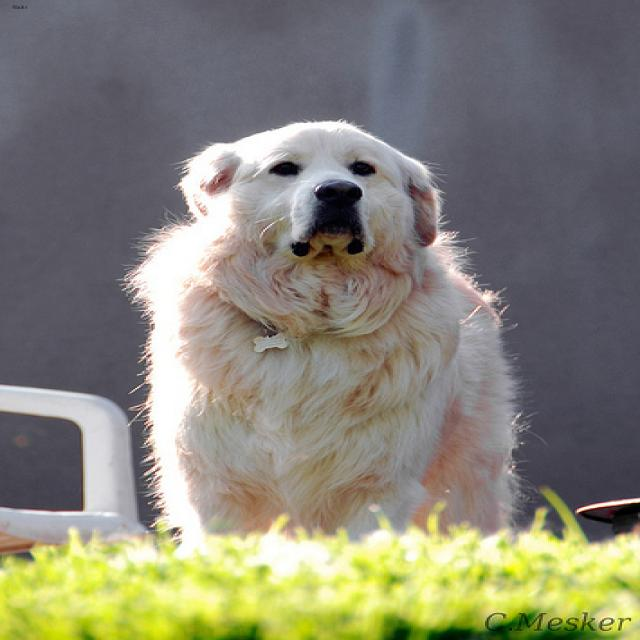dog-great_pyrenees: (110, 111, 539, 545)
